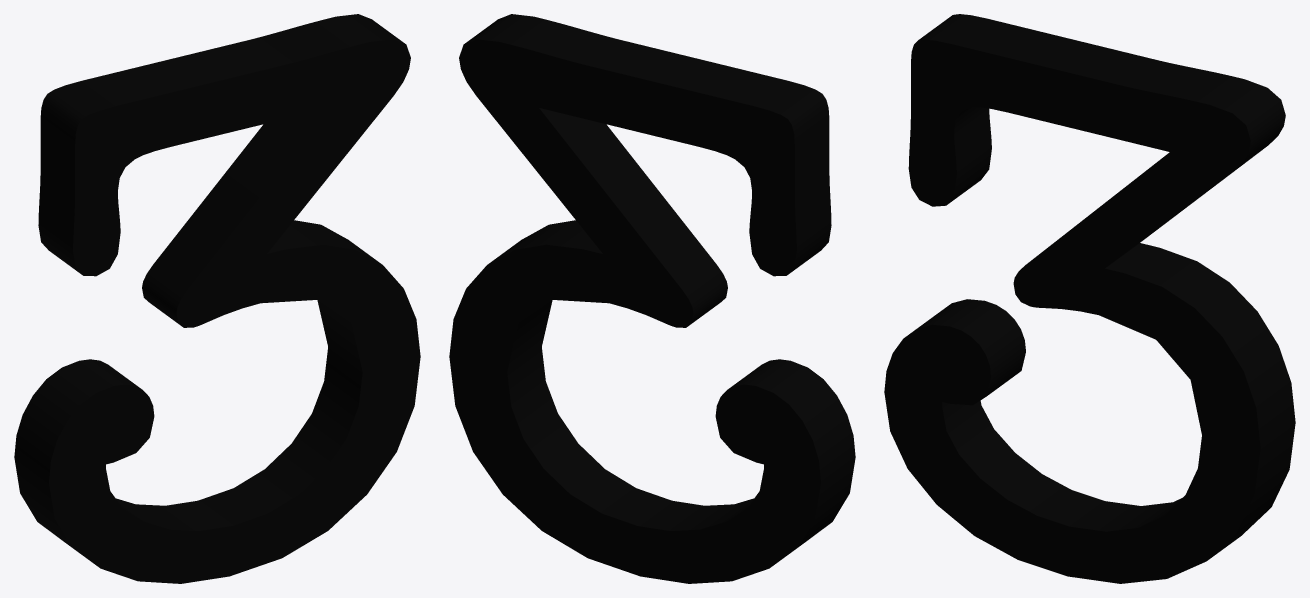
3 renders of one model, left to right at view 1: azimuth 30°, elevation 25°; view 2: azimuth 150°, elevation 25°; view 3: azimuth 330°, elevation 25°, orthographic.
Parts seen in each view (by area): view 1: mesh_id49; view 2: mesh_id49; view 3: mesh_id49.
Part boxes in pixels (x1=…): mesh_id49: x1=14, y1=14, x2=420, y2=583; mesh_id49: x1=449, y1=14, x2=855, y2=583; mesh_id49: x1=884, y1=14, x2=1295, y2=583.
Size of the model in its own units: 0.3572 by 0.4593 by 0.0575.
Materials: 1 (1 with a texture image).
